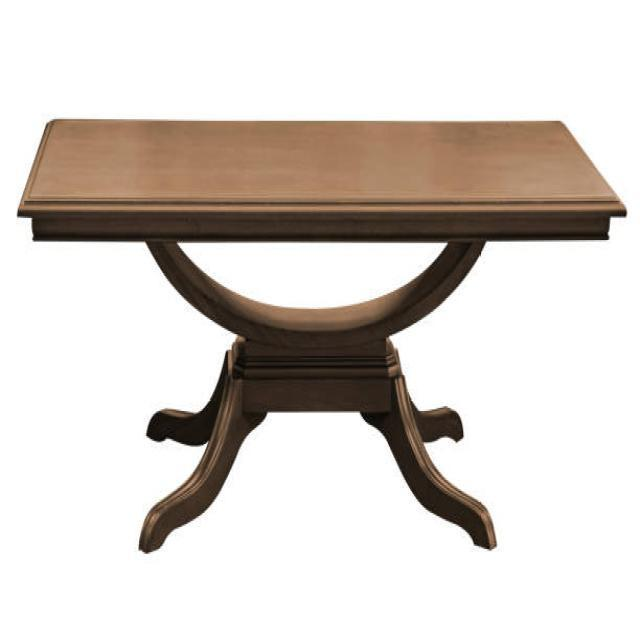table: (17, 114, 628, 554)
